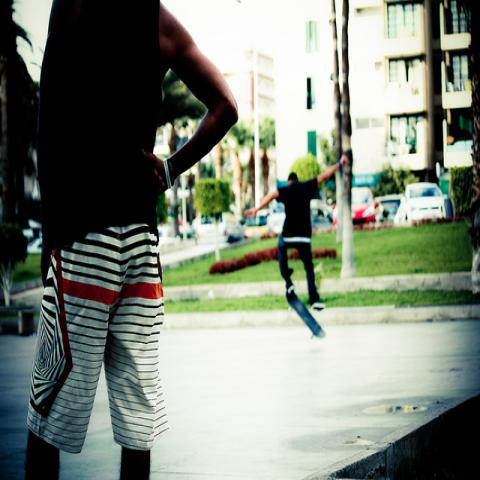car: (330, 185, 375, 229), (405, 183, 446, 226), (374, 194, 408, 229), (243, 210, 283, 238), (266, 200, 286, 232), (310, 207, 334, 233), (222, 222, 244, 242)
